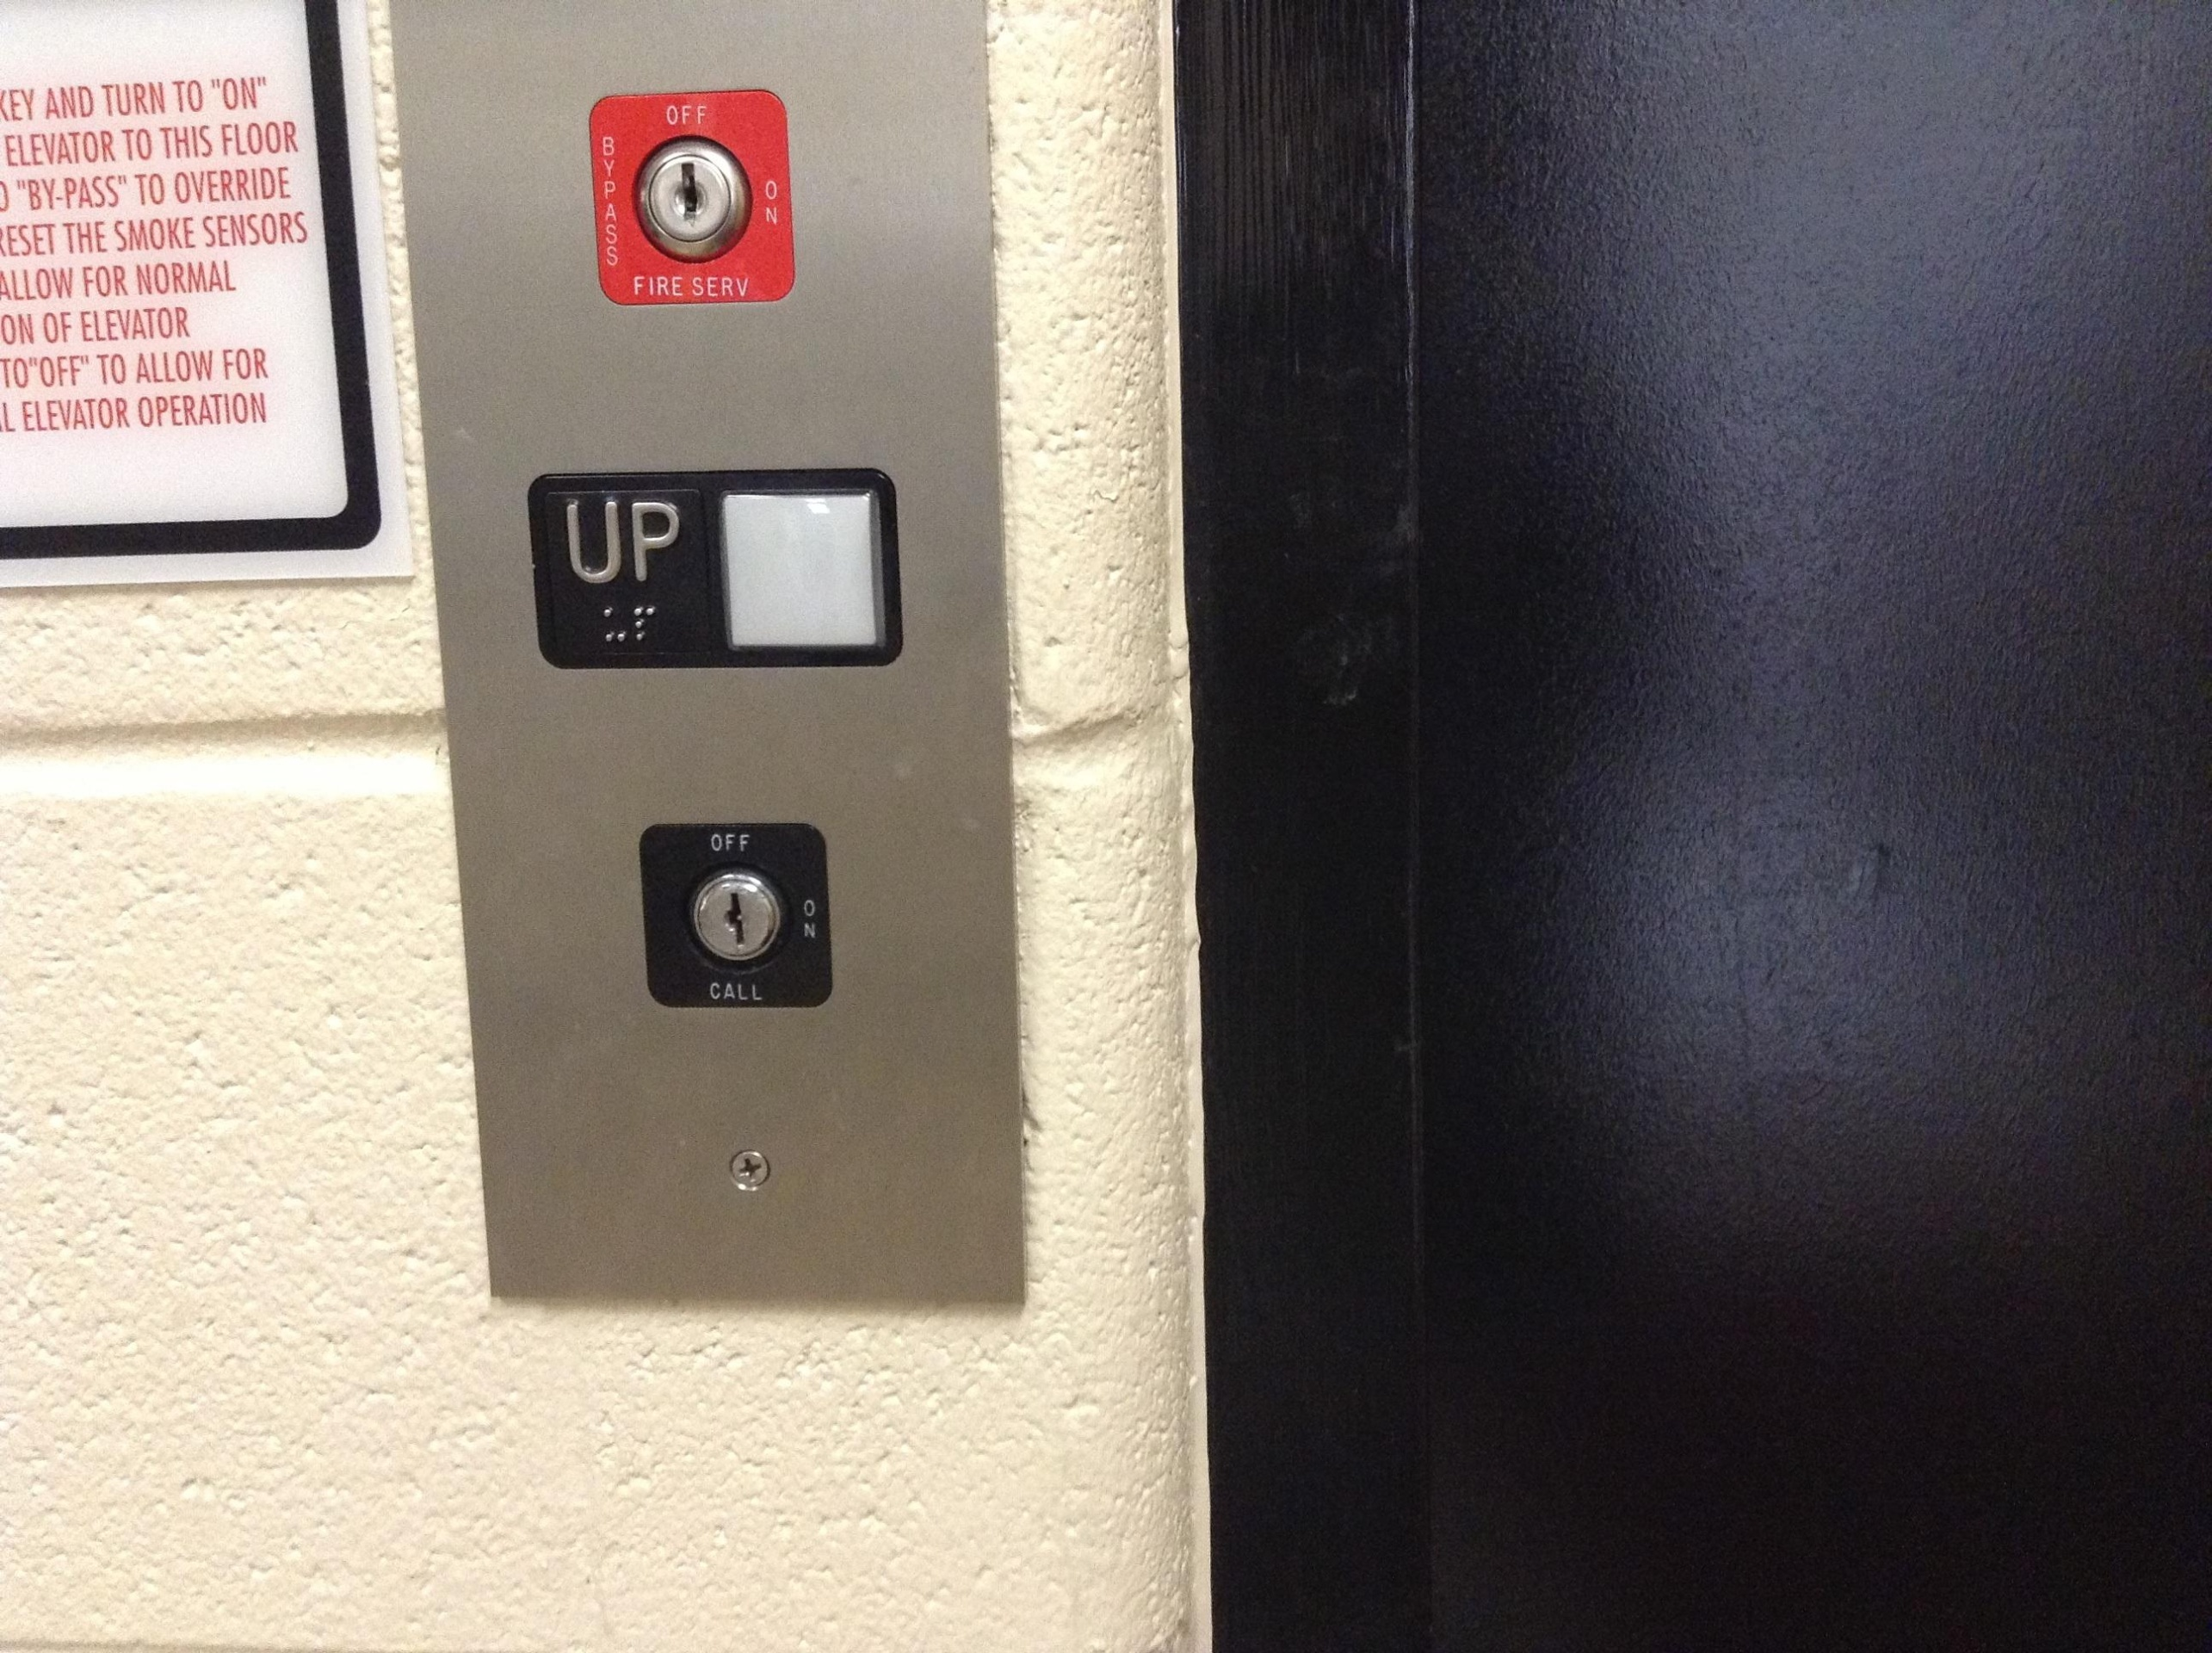UP: (519, 450, 917, 679)
bt_keyhole: (583, 80, 806, 314), (630, 809, 844, 1016)
